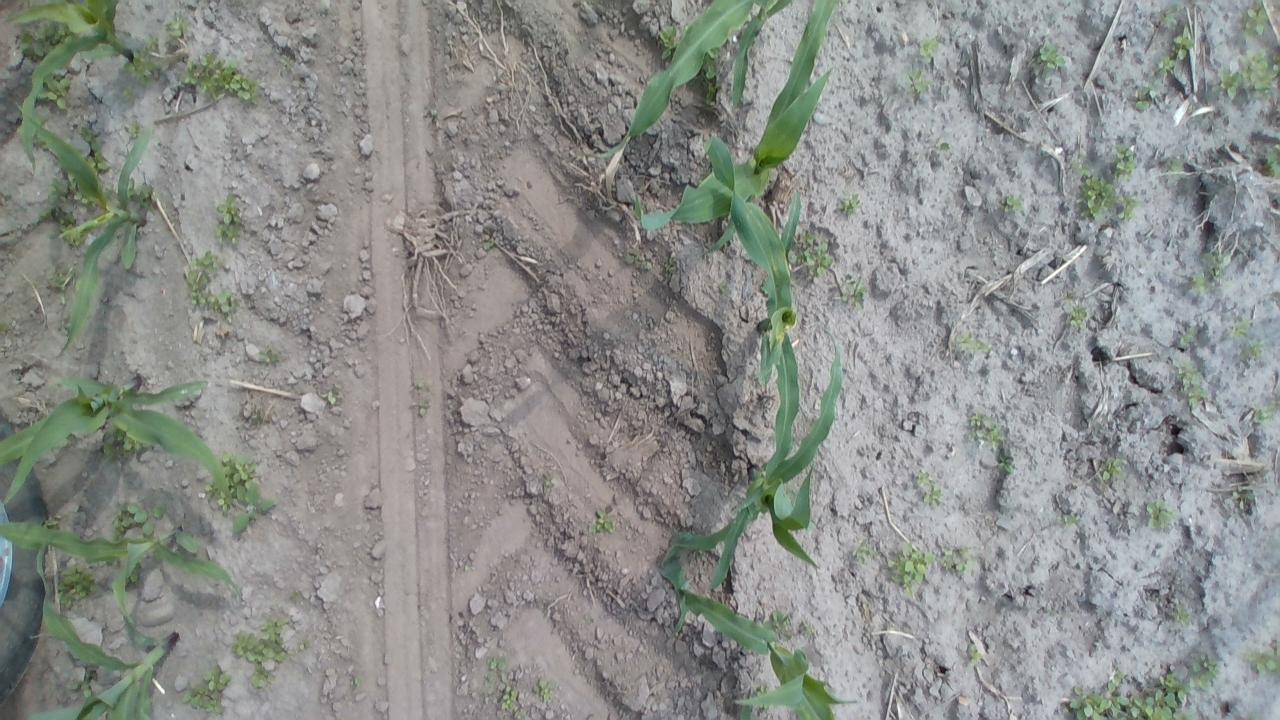Maize: (656, 326, 846, 638), (629, 0, 840, 256), (589, 0, 793, 169), (703, 133, 802, 481), (1, 372, 238, 514), (30, 95, 155, 358), (15, 541, 183, 720), (652, 578, 859, 720), (1, 516, 244, 624), (0, 0, 142, 176)
Weeds: (202, 450, 278, 535), (1062, 678, 1197, 720), (180, 48, 262, 105), (37, 175, 90, 247), (184, 248, 237, 316), (1212, 47, 1280, 99), (230, 620, 292, 668), (886, 540, 935, 600), (181, 666, 232, 714), (1073, 166, 1116, 221), (15, 19, 70, 62), (54, 564, 102, 610), (110, 503, 167, 540), (796, 230, 833, 278), (213, 193, 245, 246), (99, 426, 144, 462), (1176, 362, 1208, 408), (966, 410, 1004, 448), (39, 72, 76, 110), (1244, 0, 1280, 38), (696, 52, 720, 105), (1247, 386, 1280, 424), (82, 132, 111, 174), (938, 544, 976, 576), (126, 48, 159, 84), (1188, 654, 1222, 688), (1144, 498, 1178, 532), (914, 470, 944, 508), (1036, 38, 1066, 74), (498, 685, 528, 720), (1246, 645, 1280, 675), (1064, 295, 1092, 331), (1112, 142, 1138, 180), (901, 68, 932, 99), (1170, 26, 1198, 60), (42, 264, 76, 290), (955, 330, 989, 356), (588, 507, 617, 537), (658, 25, 681, 62), (1132, 83, 1160, 113), (409, 376, 430, 416), (1202, 250, 1228, 282), (1097, 456, 1124, 485), (1116, 192, 1142, 222), (1236, 339, 1266, 364), (248, 669, 280, 692), (165, 12, 191, 40), (836, 190, 864, 216), (846, 278, 870, 307), (1261, 144, 1280, 180), (1233, 484, 1257, 512), (916, 37, 941, 63), (134, 181, 156, 210), (257, 343, 283, 367), (1155, 56, 1181, 80), (767, 609, 794, 632), (1001, 192, 1026, 216), (1172, 604, 1196, 629), (486, 654, 508, 680), (1162, 156, 1183, 182), (1059, 511, 1085, 531), (1158, 6, 1180, 29), (322, 384, 342, 409), (996, 450, 1016, 475), (851, 541, 873, 563), (1176, 324, 1198, 346), (1188, 271, 1210, 293), (1228, 317, 1252, 337), (124, 562, 142, 588), (244, 405, 266, 426), (967, 642, 986, 666), (534, 680, 554, 701), (72, 677, 95, 695), (116, 85, 137, 104), (478, 234, 499, 253), (1106, 670, 1128, 688), (126, 120, 146, 139), (933, 138, 954, 154), (540, 474, 558, 492), (422, 103, 440, 121), (345, 672, 363, 688), (801, 623, 816, 640), (298, 640, 316, 654), (716, 280, 731, 296), (281, 52, 296, 68), (664, 255, 678, 272)
